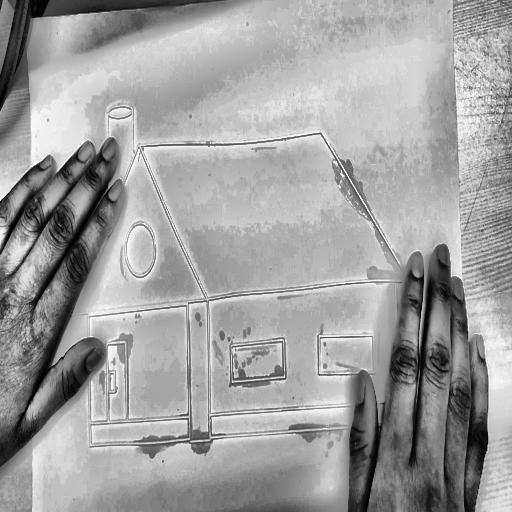house: (29, 60, 449, 474)
top_left: (20, 14, 28, 28)
